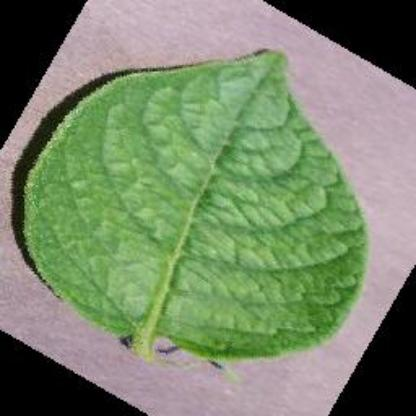Healthy-plant: (19, 44, 372, 372)
